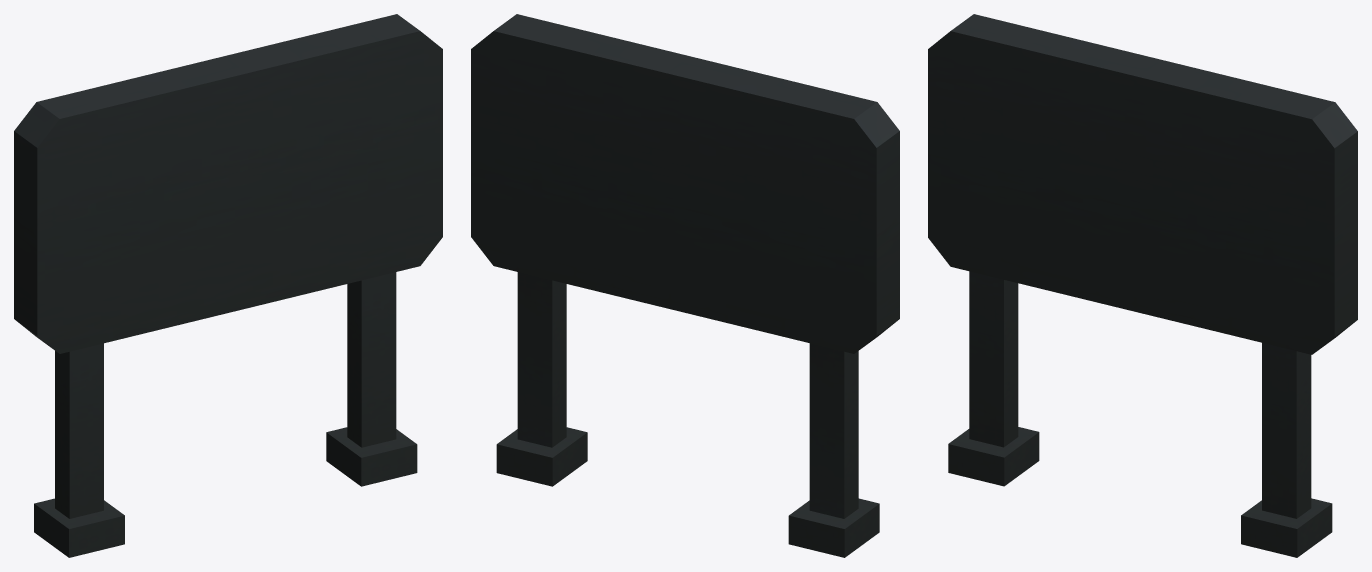
The model's file is air_duct_support.fbx.
3 views of the same model, side by side, from view 1: azimuth 30°, elevation 25°; view 2: azimuth 150°, elevation 25°; view 3: azimuth 330°, elevation 25° (orthographic).
Parts seen in each view (by area): view 1: air_duct_support; view 2: air_duct_support; view 3: air_duct_support.
Part boxes in pixels (x1,y1,x2,y2): air_duct_support: (14, 14, 442, 557); air_duct_support: (471, 14, 899, 557); air_duct_support: (928, 14, 1357, 557).
Bounding box in the file's own units: 99.19 × 102 × 14.84.
